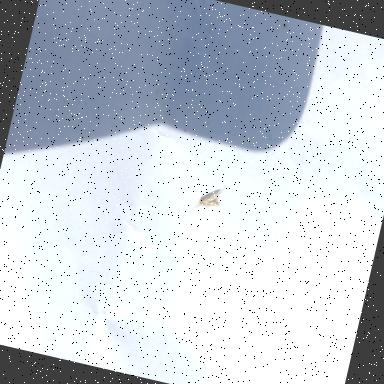pbw: (192, 185, 225, 216)
